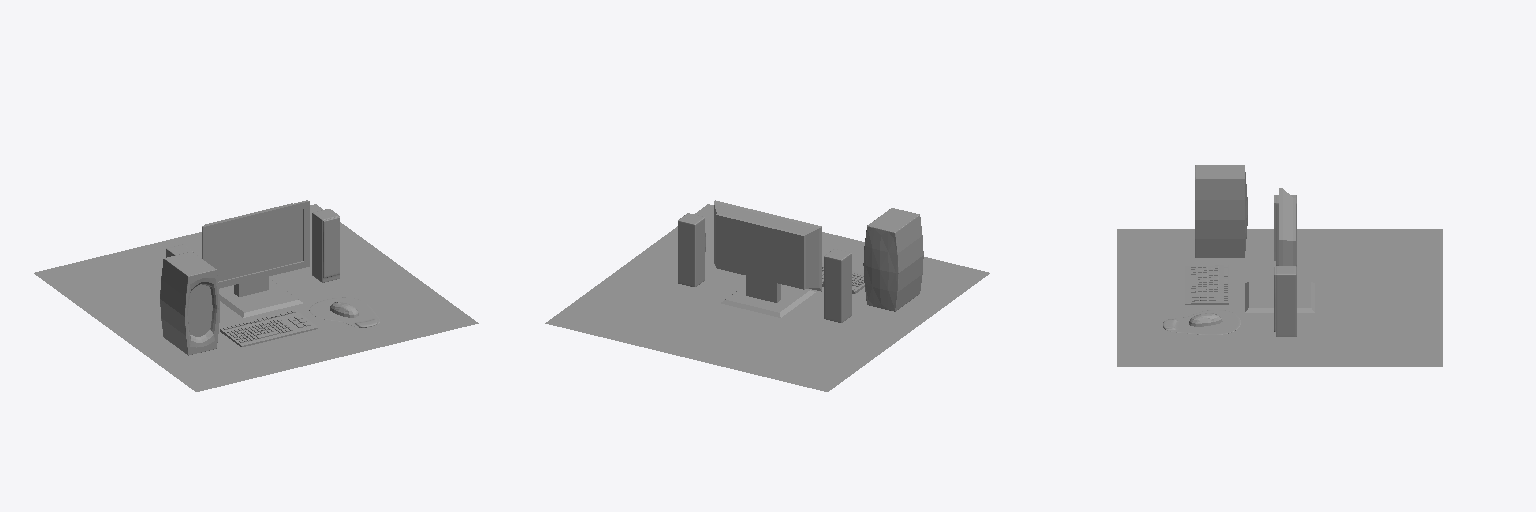
File: Computer.obj
The picture shows the model from 3 angles: view 1: azimuth 30°, elevation 25°; view 2: azimuth 150°, elevation 25°; view 3: azimuth 270°, elevation 25°; orthographic projection.
Parts seen in each view (by area): view 1: Plane, Monitor_Plane.001, Plane.001_Plane.004, Keyboard_Cube, Speaker1_Cube.003, Mouse_Pad_Plane.002; view 2: Plane, Monitor_Plane.001, Plane.001_Plane.004, Speaker2_Cube.006, Speaker1_Cube.003; view 3: Plane, Plane.001_Plane.004, Monitor_Plane.001, Keyboard_Cube, Speaker1_Cube.003, Mouse_Pad_Plane.002.
Part boxes in pixels (left/top/right/bottom): Plane: left=34, top=204, right=478, bottom=391; Monitor_Plane.001: left=202, top=200, right=309, bottom=317; Plane.001_Plane.004: left=160, top=252, right=219, bottom=355; Keyboard_Cube: left=220, top=310, right=317, bottom=346; Speaker1_Cube.003: left=312, top=209, right=339, bottom=282; Mouse_Pad_Plane.002: left=309, top=297, right=379, bottom=327; Plane: left=545, top=204, right=989, bottom=391; Monitor_Plane.001: left=714, top=200, right=821, bottom=317; Plane.001_Plane.004: left=863, top=208, right=923, bottom=311; Speaker2_Cube.006: left=824, top=249, right=851, bottom=322; Speaker1_Cube.003: left=678, top=213, right=705, bottom=286; Plane: left=1117, top=229, right=1442, bottom=366; Plane.001_Plane.004: left=1195, top=165, right=1247, bottom=257; Monitor_Plane.001: left=1245, top=188, right=1314, bottom=312; Keyboard_Cube: left=1185, top=265, right=1228, bottom=304; Speaker1_Cube.003: left=1274, top=266, right=1296, bottom=336; Mouse_Pad_Plane.002: left=1163, top=310, right=1240, bottom=334.
Bounding box in the file's own units: 9.34 × 2.66 × 9.34.